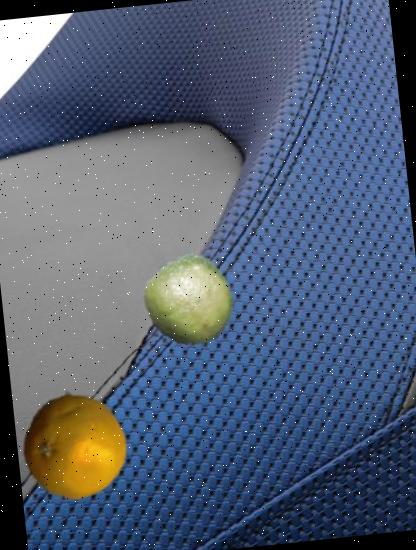Grapefruit: (16, 386, 134, 506)
Limes: (139, 252, 240, 352)
